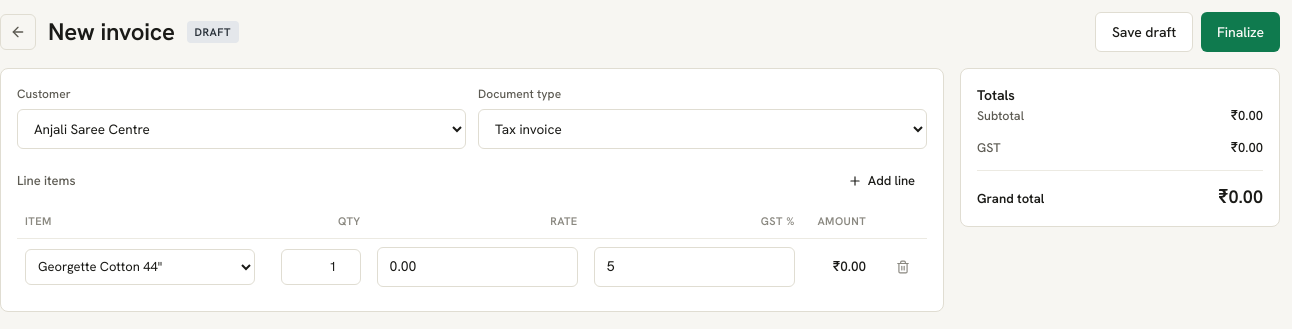
Invoice flow: Create -> Finalize -> Detail › saves a draft, routes to detail, and shows DRAFT status
The image size is (1292, 329).
Step 1. Click the button "Save draft" → (1144, 32), box [1095,12,1193,52]
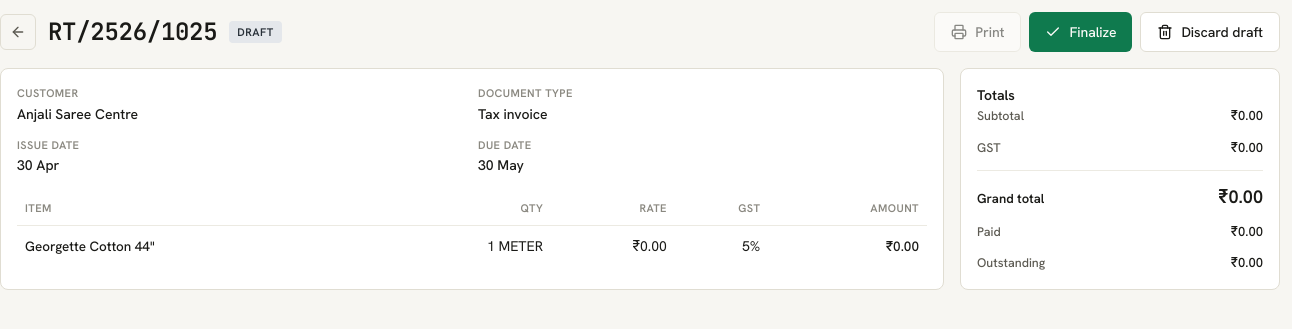
Expected: the text "Draft" is shown, [229,21,282,43]
Expected: the heading "RT/2526/1025" is shown, [48,14,217,50]
